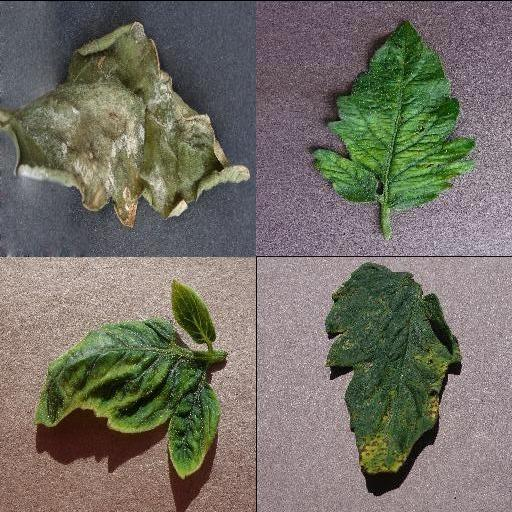Late Blight: (0, 21, 251, 228)
Mosaic Virus: (310, 17, 478, 207)
Septoria: (322, 262, 462, 474)
Yellow Leaf Curl Virus: (34, 316, 200, 431), (168, 385, 218, 475), (167, 277, 217, 342)
